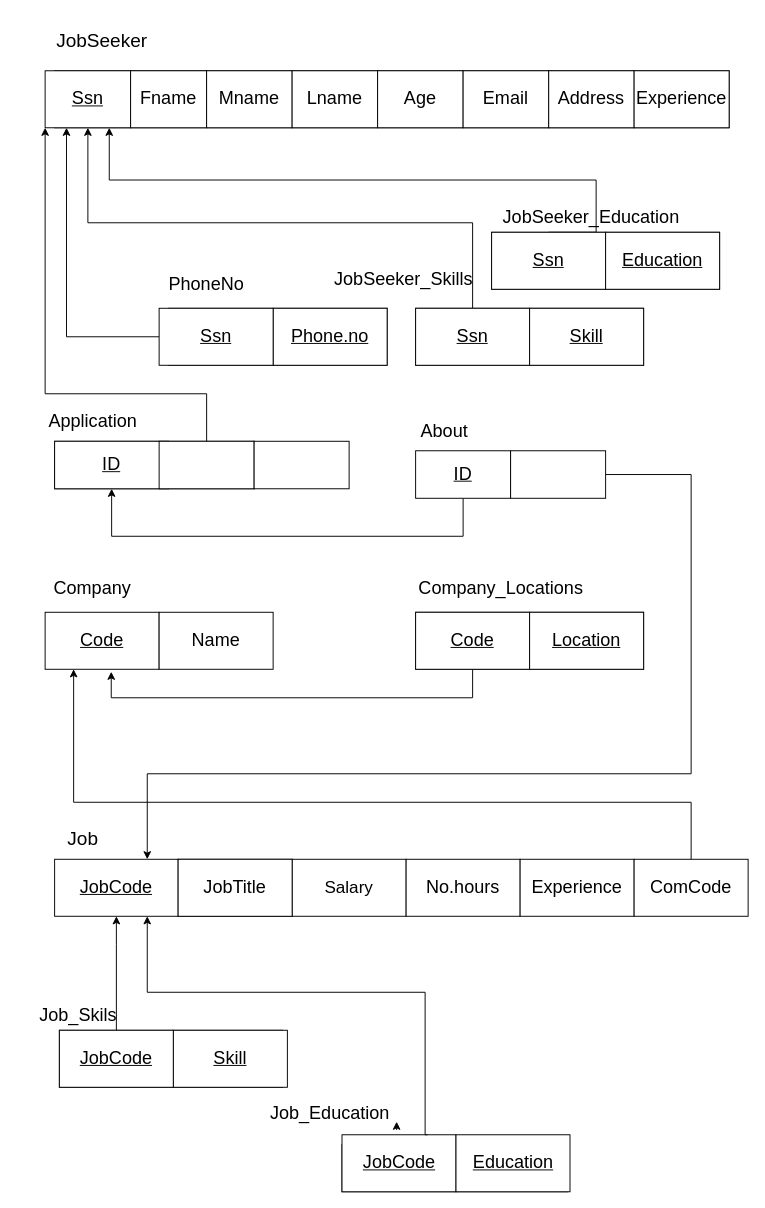
This 765x1208 diagram has some shape labels left out. Each missing label, with the centre of its shape:
Date: the point at 301,464
JCode: the point at 558,474
JSSN: the point at 206,464
